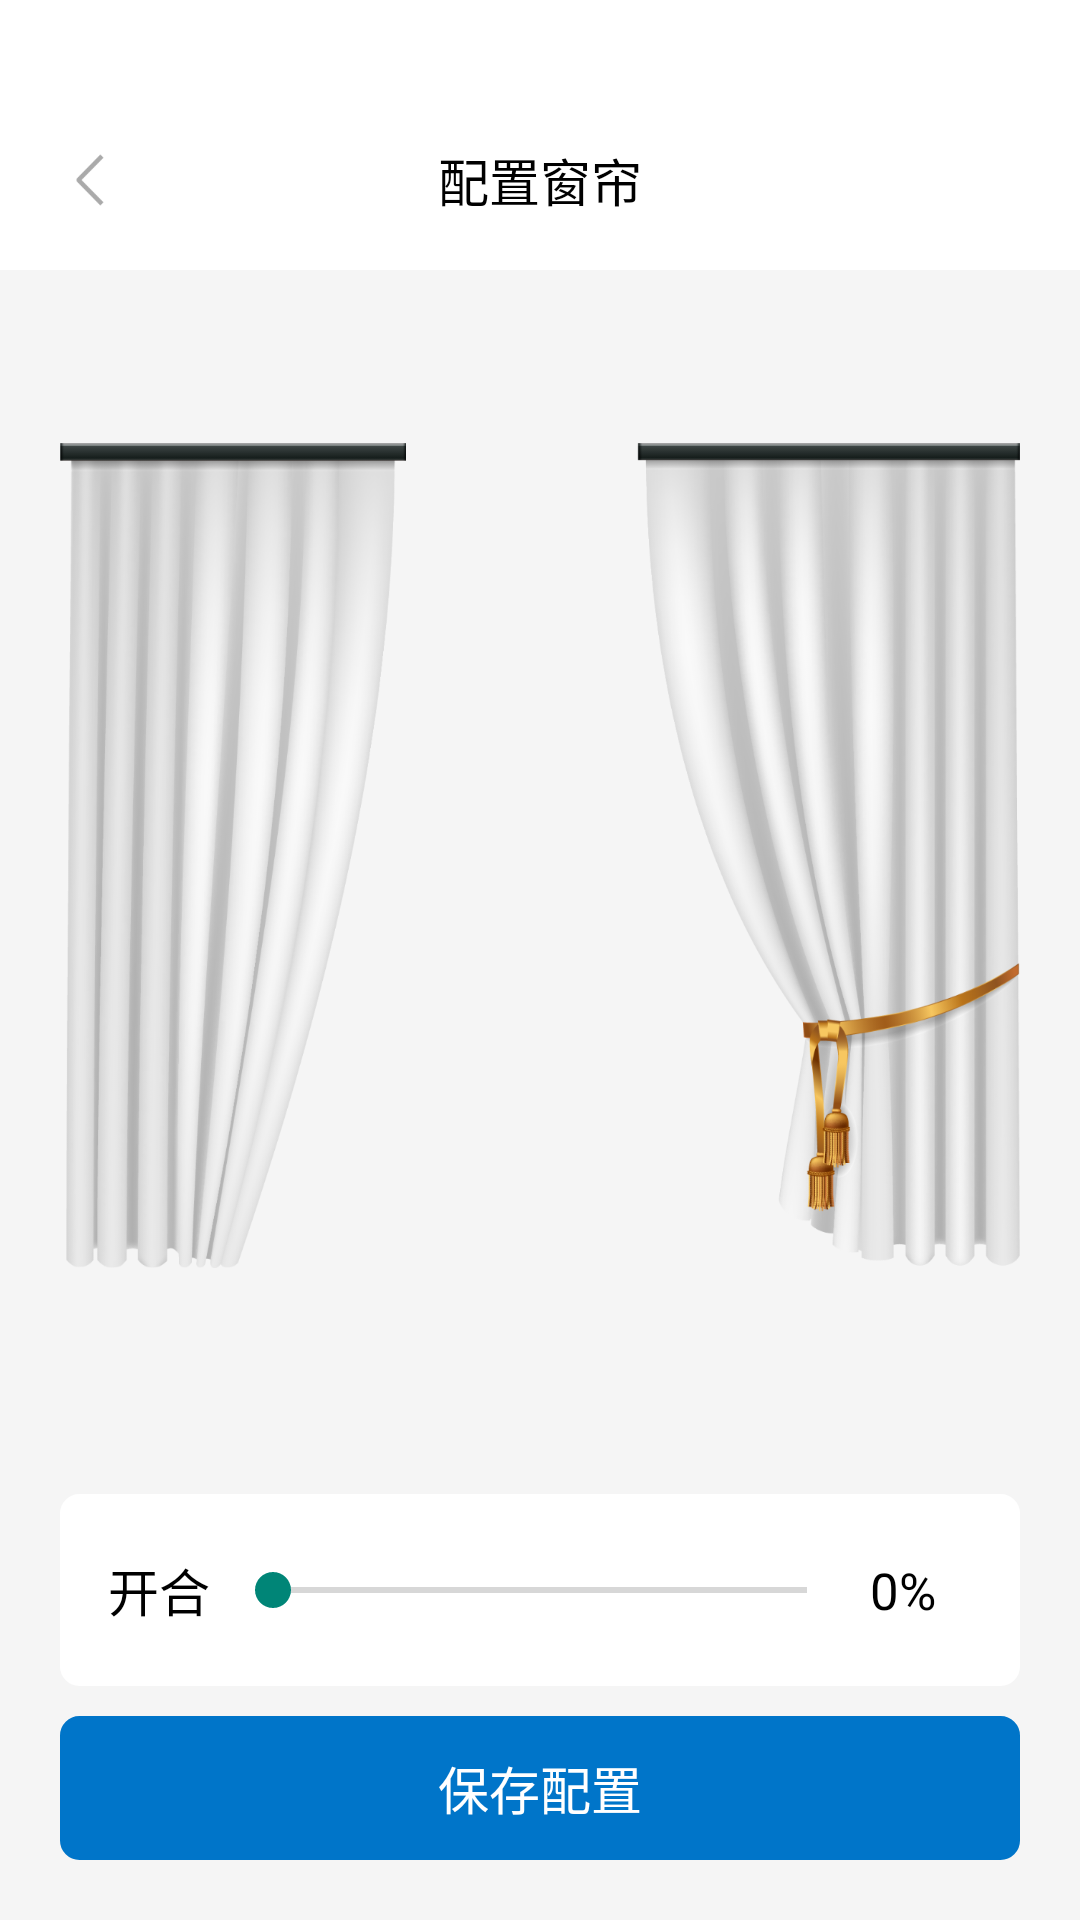

Point at icon controls on the screen. Image size 1080px×1920px, points as point (x, y).
back: point (89, 180)
